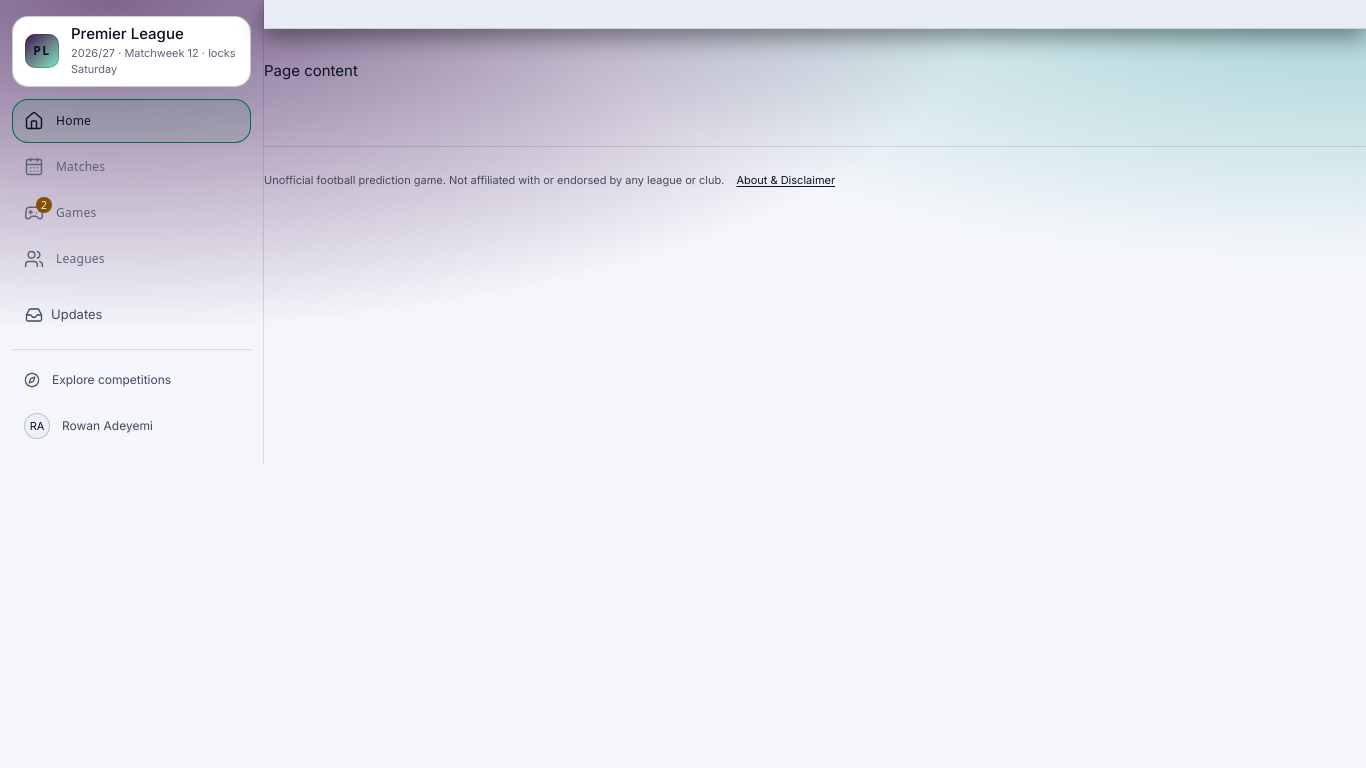
the Action Centre › never says the inbox is empty before the read has answered
Click the button "Updates": point(132, 315) [12,293,251,337]
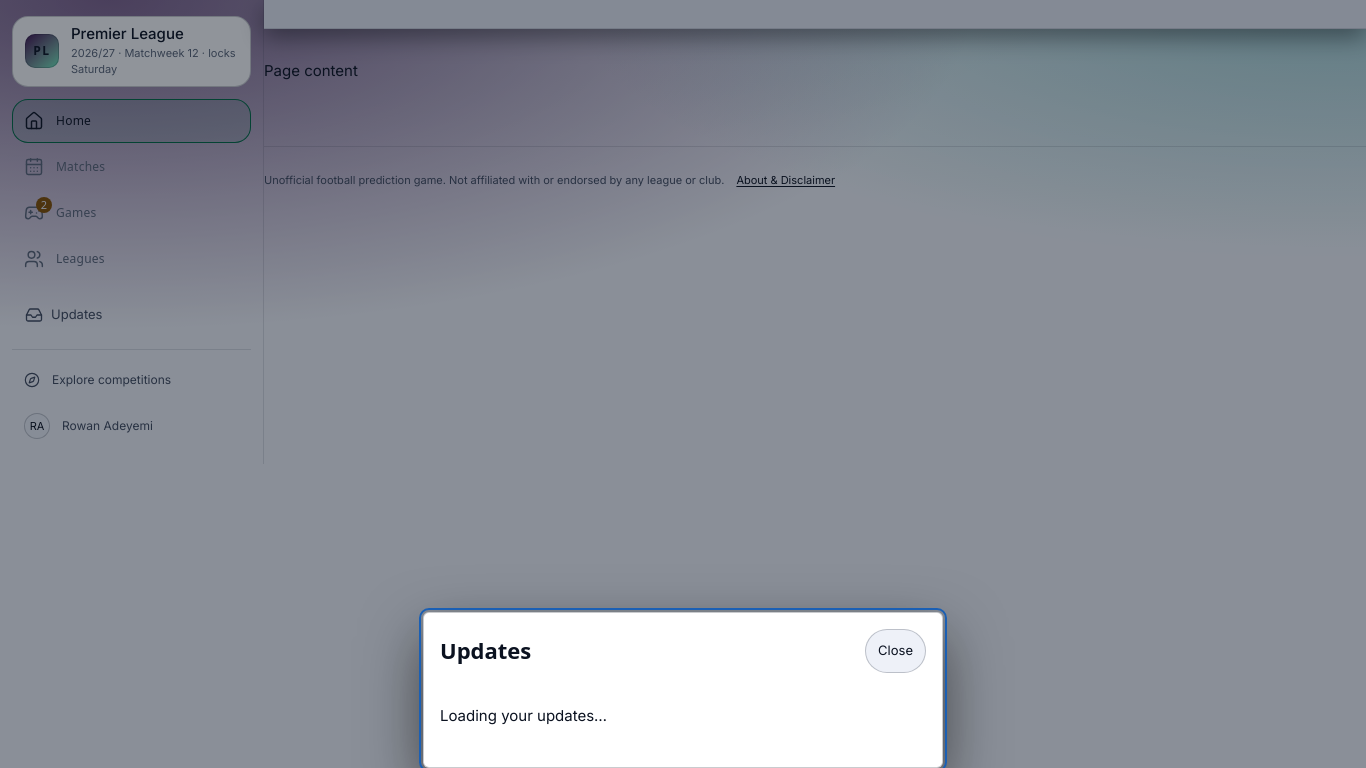
Now the element showing "Loading your updates…" is shown, box [440,706,607,724]
